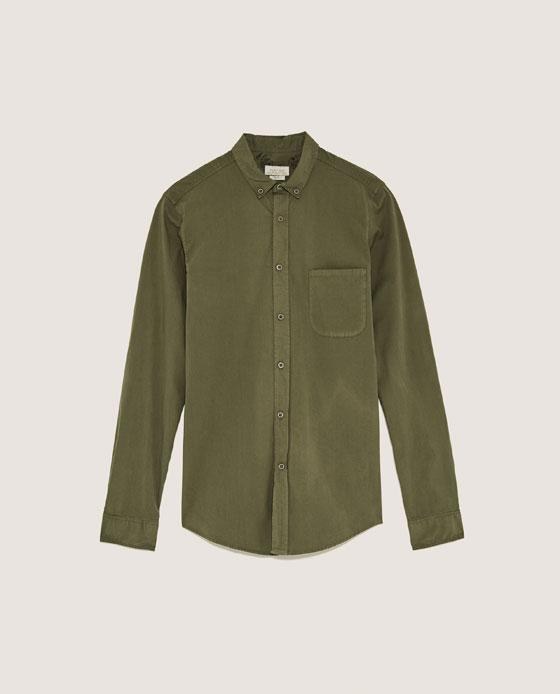teeshirt: (98, 125, 480, 570)
